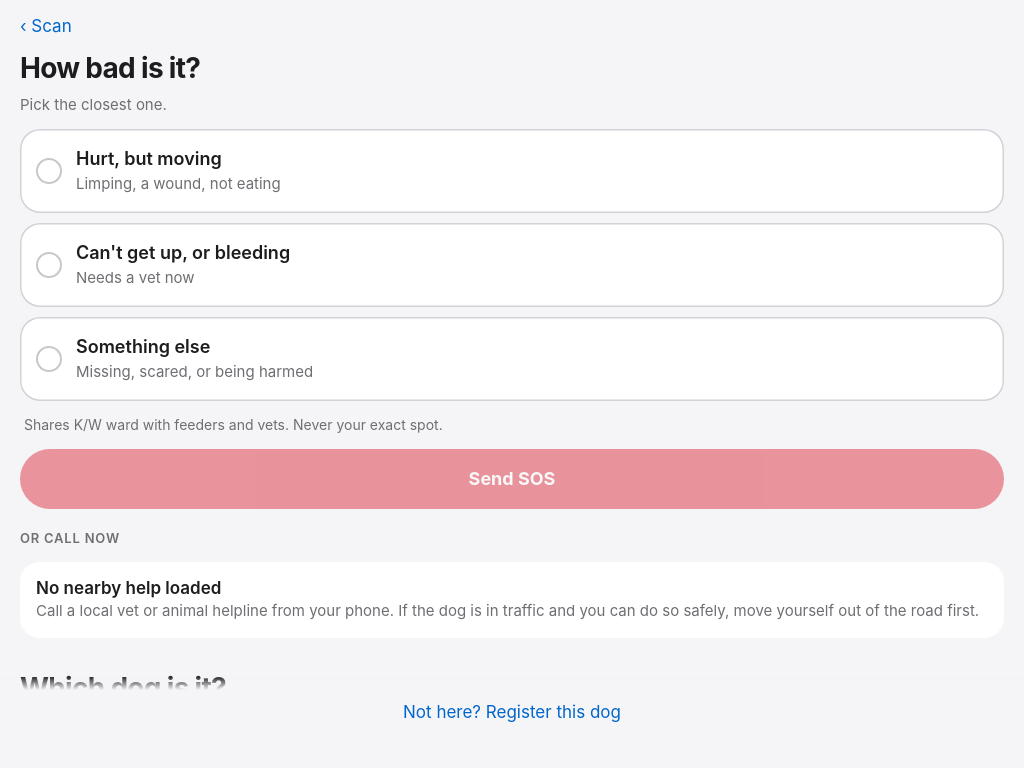
Test case: ?sos=1: the dogless SOS (v6 P8) › says plainly when nobody was reached
Click the radio button labelled "Hurt, but moving Limping, a wound, not eating". click: (149, 159)
box: [20,129,1004,213]
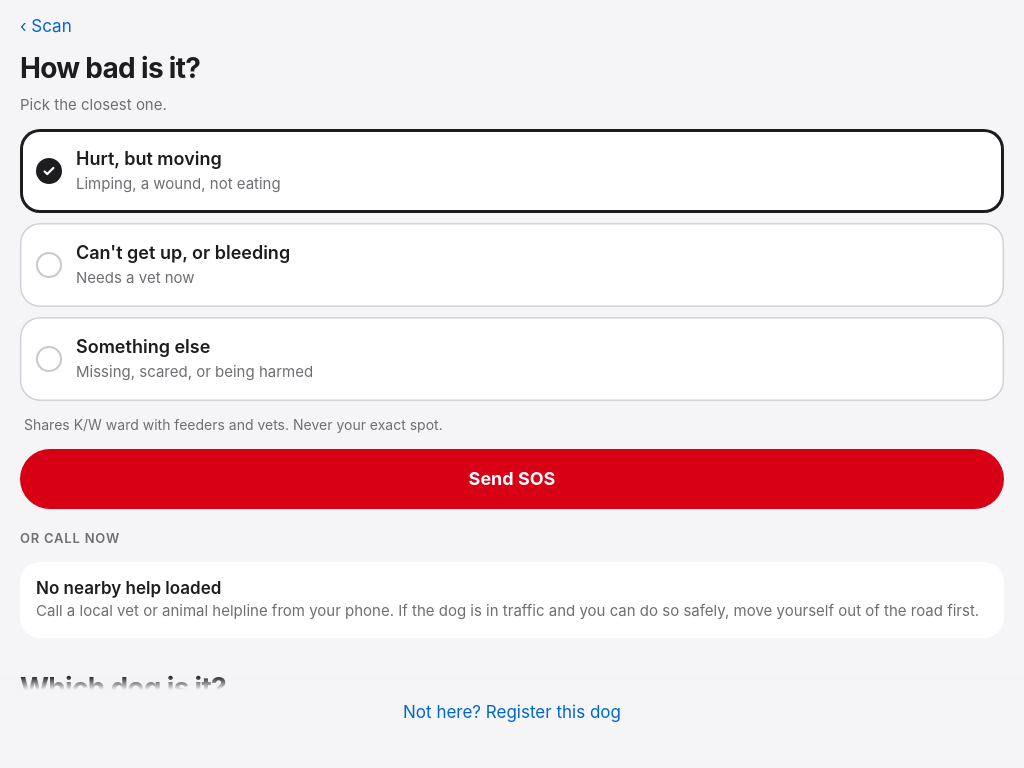
Click the button "Send SOS". click: (512, 479)
box: [20,449,1004,509]
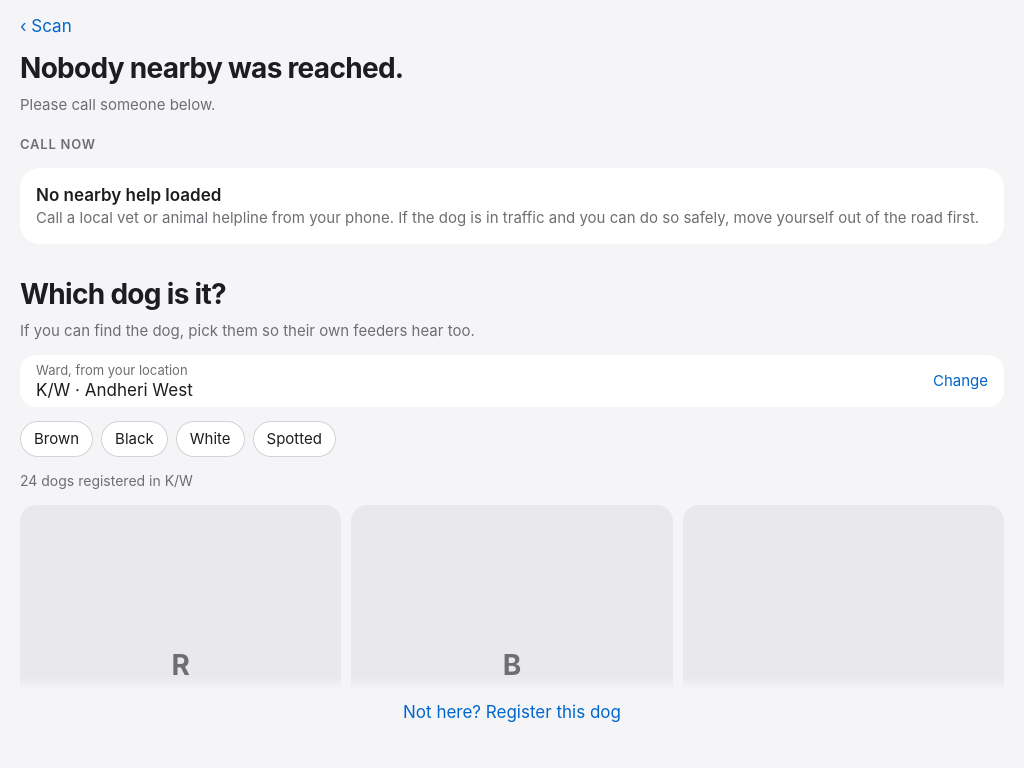
Expected: the heading "Nobody nearby was reached." is shown, [20,51,404,85]
